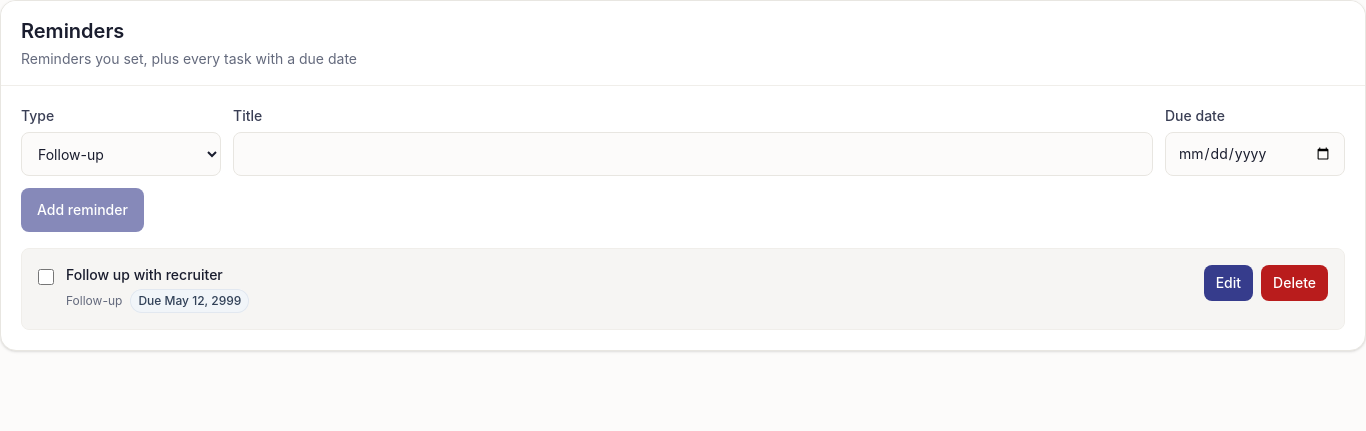
JobDetailRemindersPanel › shows a failed toggle as an alert
The width and height of the screenshot is (1366, 431).
Click the checkbox named "Complete Follow up with recruiter": (46, 277) [38, 269, 54, 285]
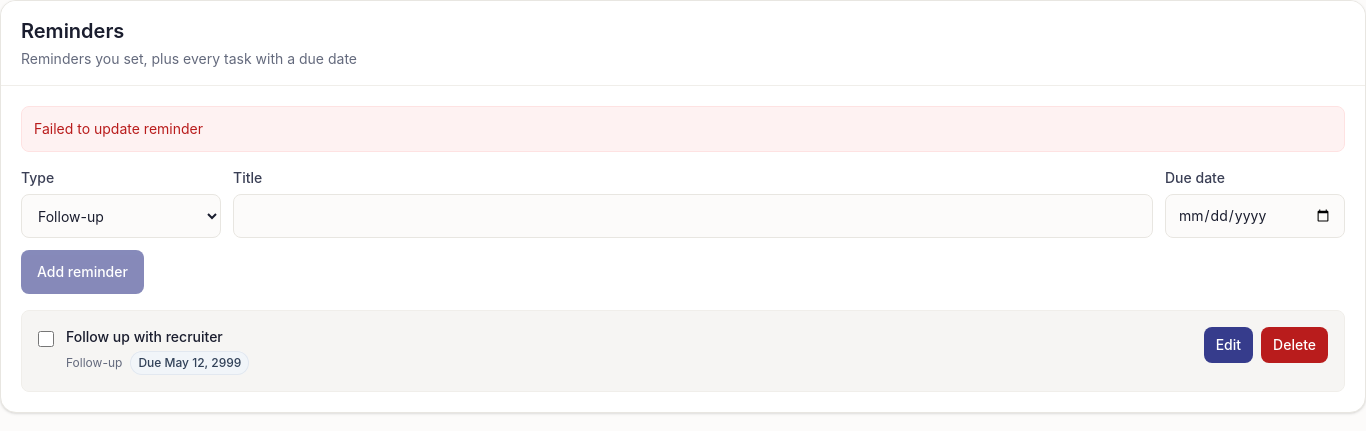
Expected: the message reads "Failed to update reminder", [34, 120, 203, 137]
